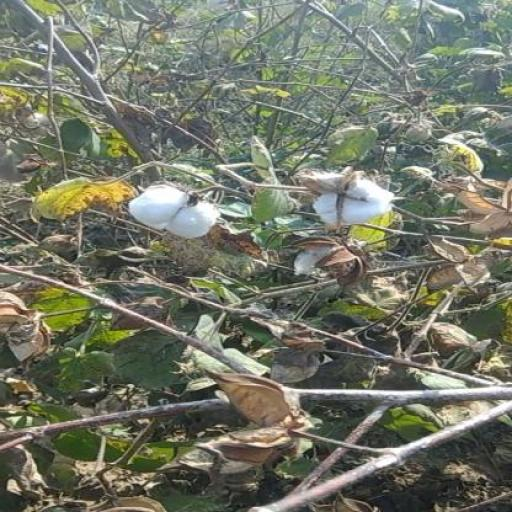cotton_ready: (284, 169, 400, 233), (126, 180, 222, 241)
